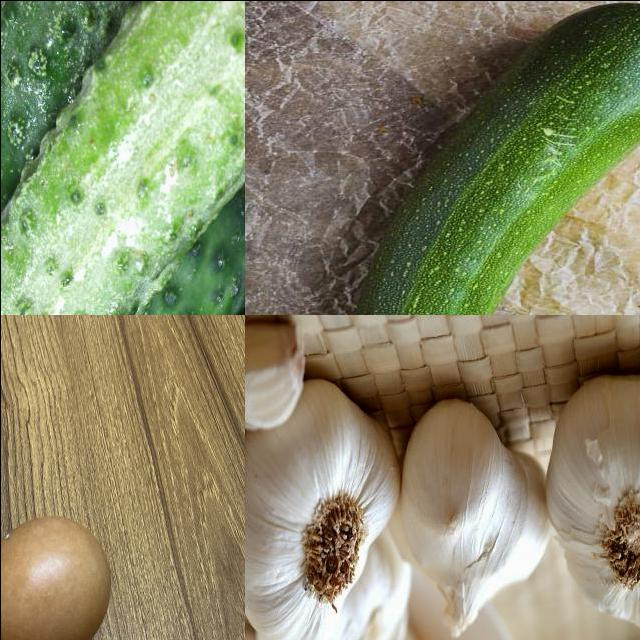cucumber: (1, 1, 245, 315)
egg: (1, 504, 119, 640)
garlic: (384, 382, 557, 640), (245, 378, 400, 640), (540, 365, 640, 638), (245, 319, 305, 441)
zucchini: (360, 3, 640, 315)
